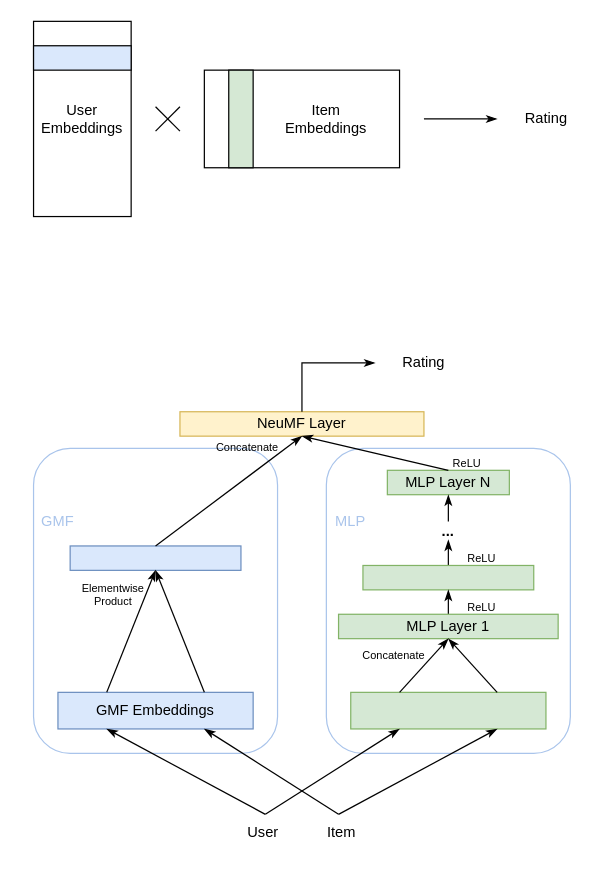
The diagram is 603 pixels wide and 872 high, and some of its shapes have lost their labels. The centre of each missing label's shape, as x and y in pixels:
GMF Layer: [155,557]
MLP Embeddings: [448,710]
MLP Layer 2: [448,577]
